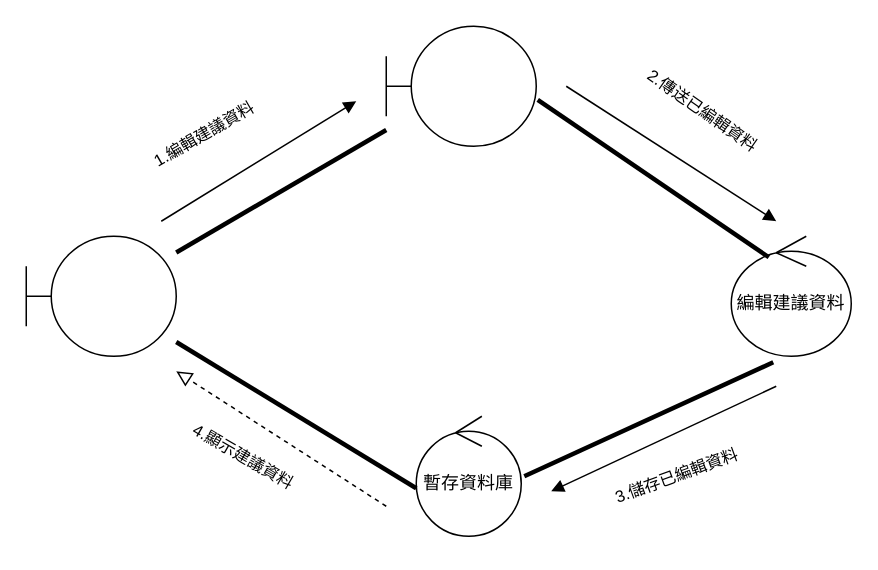
Some shapes in this 878 by 570 pixel diagram are drawn without their labels. Here are the shapes that lost their labels. From the top down, the centre of each, then its label:
the point at 460,85: 編輯建議資料UI
the point at 100,295: 確認結果UI
